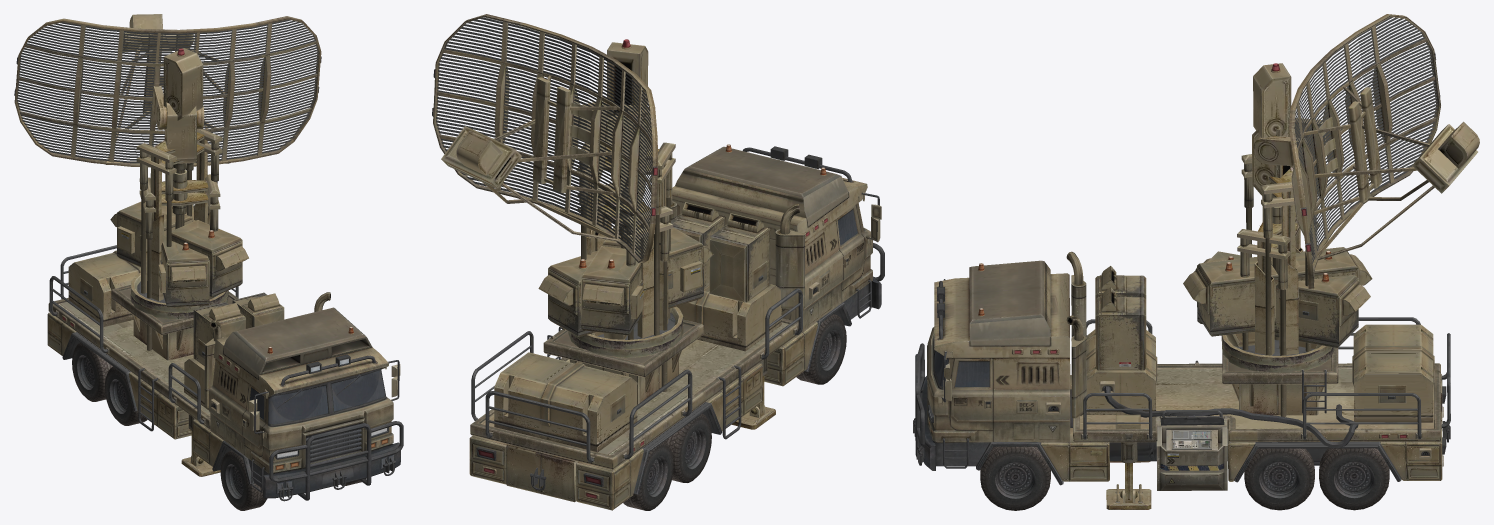
3 renders of one model, left to right at view 1: azimuth 30°, elevation 25°; view 2: azimuth 150°, elevation 25°; view 3: azimuth 270°, elevation 25°, orthographic. The views are drawn at different scales.
Parts seen in each view (by area): view 1: Object_7, Object_4, Object_5, Object_2, Object_3, Object_6; view 2: Object_7, Object_4, Object_5, Object_2, Object_6; view 3: Object_7, Object_4, Object_2, Object_5, Object_3, Object_9.
Boxes of the visible parts, left/top/right/bottom form: Object_7: left=14, top=14, right=354, bottom=484; Object_4: left=58, top=288, right=403, bottom=501; Object_5: left=17, top=19, right=318, bottom=163; Object_2: left=72, top=342, right=366, bottom=510; Object_3: left=249, top=370, right=385, bottom=423; Object_6: left=62, top=48, right=387, bottom=469; Object_7: left=432, top=14, right=851, bottom=510; Object_4: left=476, top=146, right=884, bottom=499; Object_5: left=436, top=17, right=652, bottom=259; Object_2: left=623, top=314, right=846, bottom=510; Object_6: left=433, top=39, right=827, bottom=498; Object_7: left=976, top=14, right=1479, bottom=509; Object_4: left=913, top=260, right=1450, bottom=470; Object_2: left=980, top=446, right=1389, bottom=510; Object_5: left=1294, top=17, right=1437, bottom=263; Object_3: left=934, top=351, right=989, bottom=386; Object_9: left=1171, top=430, right=1211, bottom=449.
Bounding box in the file's own units: 595 × 855 × 1033.
8 materials, 7 textured.
